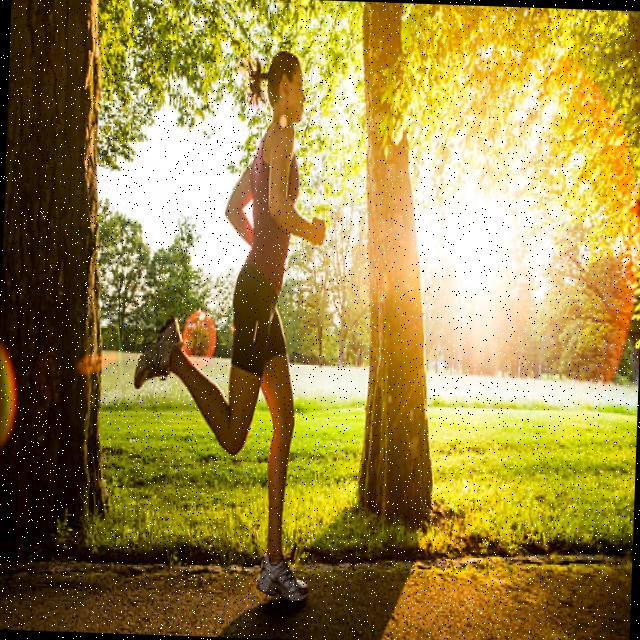Person: (127, 48, 330, 606)
